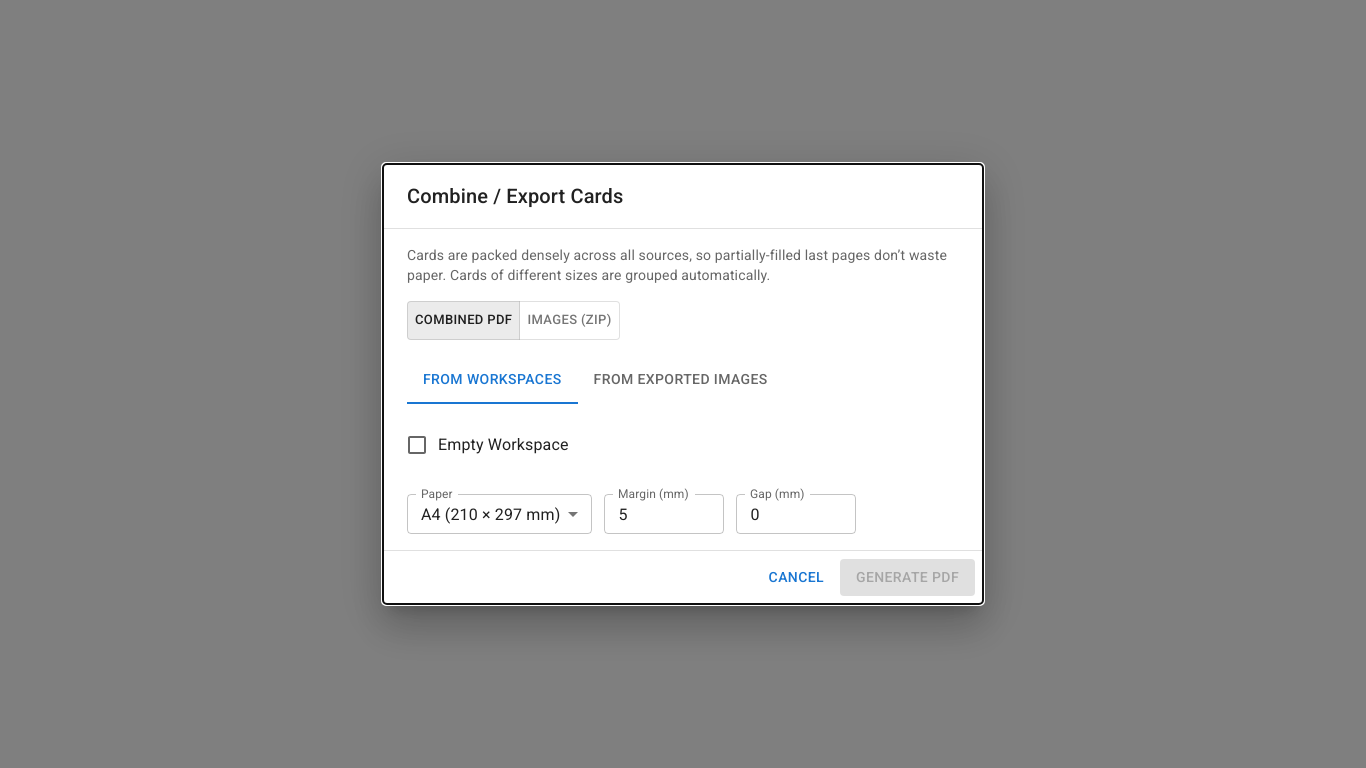
Test case: CombinePdfDialog — workspaces tab › shows an error when the selected workspace has no cards
Click the checkbox labelled "Empty Workspace" at (487, 445), box [405,433,569,457]
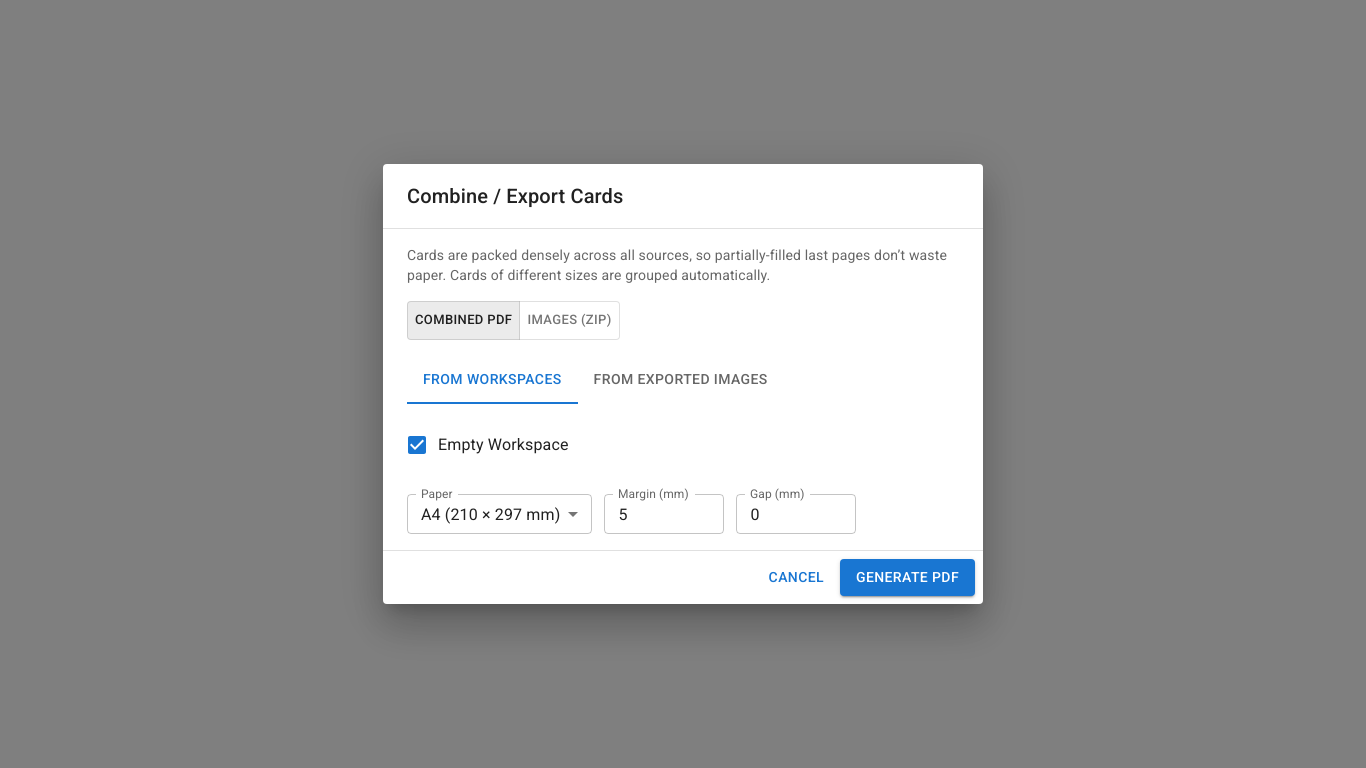
Click the button "Generate PDF" at (908, 577), box [840,559,975,596]
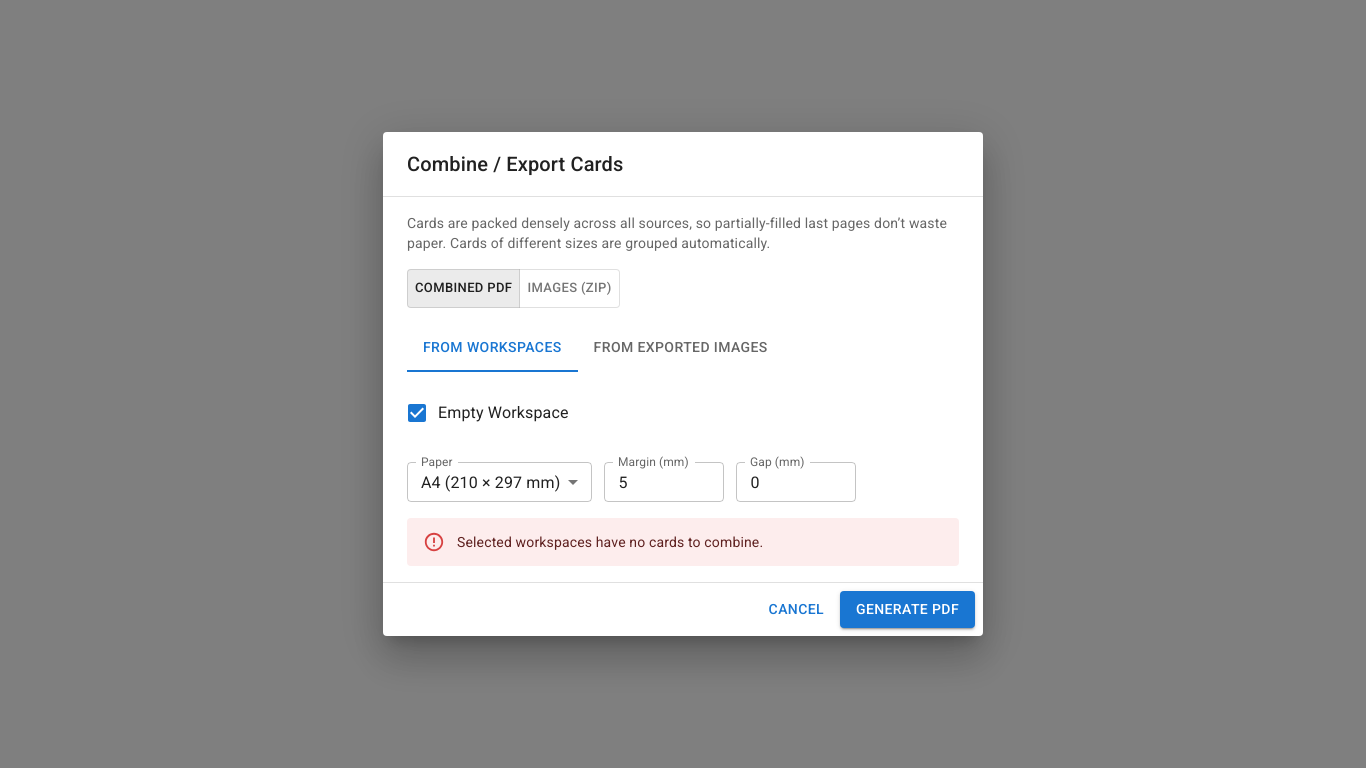
Expected: the text "Selected workspaces have no cards to combine." is shown, [457,534,763,550]
